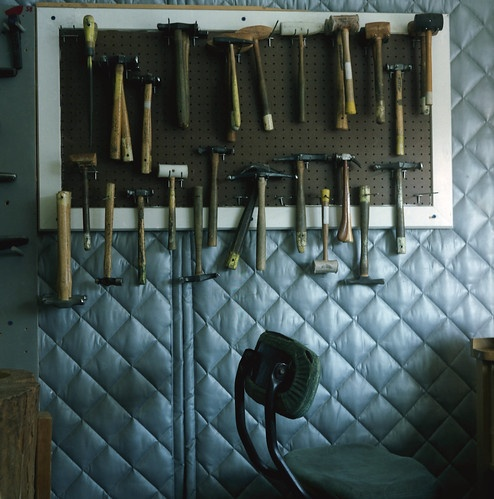hammer: (41, 189, 88, 305), (371, 161, 426, 258), (157, 19, 201, 134), (101, 48, 140, 167), (196, 143, 235, 249), (405, 15, 445, 115), (349, 180, 386, 287), (95, 180, 125, 290), (362, 21, 391, 125), (125, 186, 156, 283), (331, 151, 360, 245), (385, 62, 411, 159), (314, 187, 341, 277)
